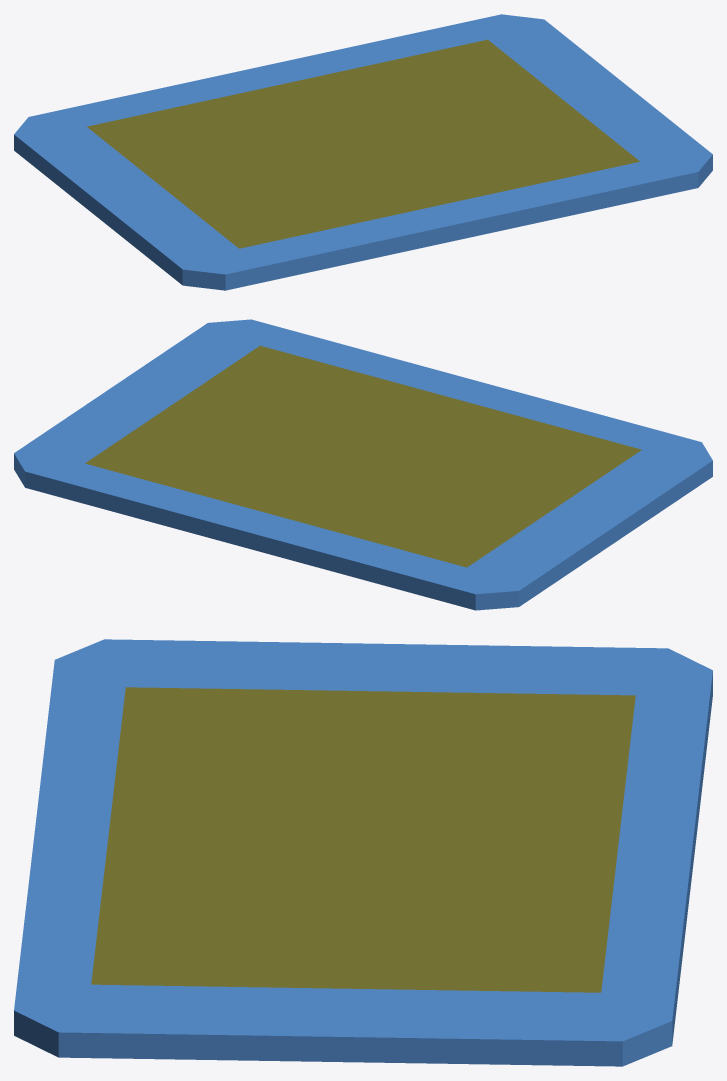
File: Livingroom2_iPad.fbx
3 renders of one model, top to bottom at view 1: azimuth 30°, elevation 25°; view 2: azimuth 150°, elevation 25°; view 3: azimuth 270°, elevation 25°, orthographic. The views are drawn at different scales.
Parts seen in each view (by area): view 1: Livingroom2_iPad; view 2: Livingroom2_iPad; view 3: Livingroom2_iPad.
Part boxes in pixels (x1,y1,x2,y2): Livingroom2_iPad: (14, 14, 712, 290); Livingroom2_iPad: (14, 319, 712, 610); Livingroom2_iPad: (14, 639, 712, 1066).
Bounding box in the file's own units: 32.17 × 0.9595 × 23.64.
